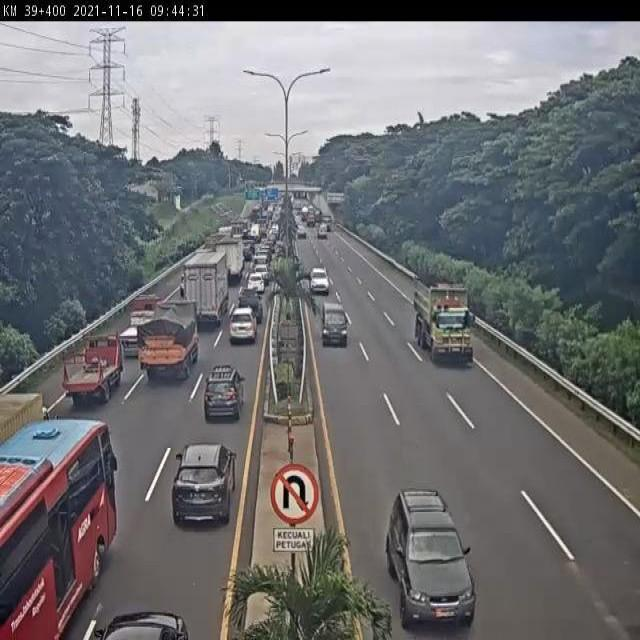car: (389, 488, 475, 628), (174, 440, 236, 523), (201, 371, 243, 425), (321, 303, 349, 347), (228, 310, 258, 346), (235, 296, 262, 332), (247, 274, 266, 294)
small truck: (59, 336, 121, 408), (117, 293, 163, 356)
truck-l-: (413, 282, 475, 362), (183, 252, 226, 328)
truck-m-: (136, 305, 196, 383), (212, 236, 244, 284)
